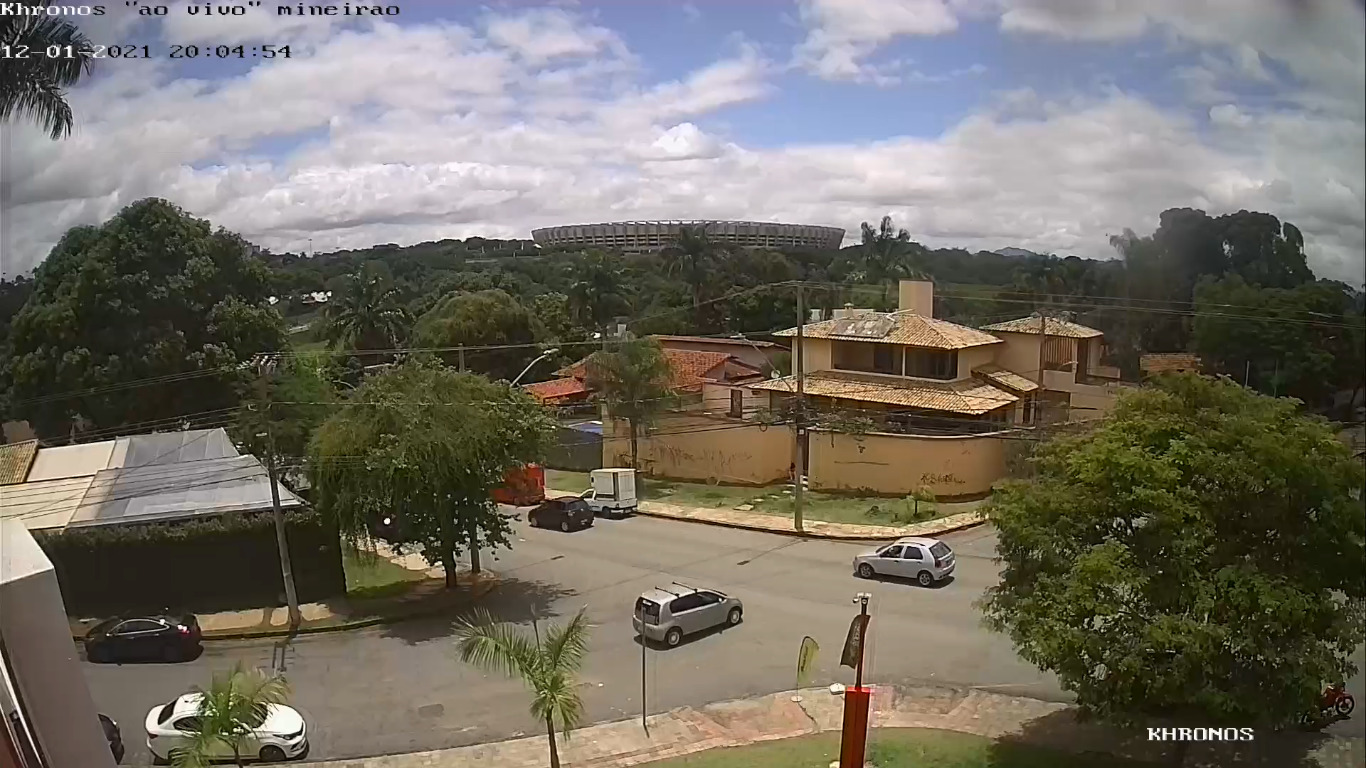car: (143, 690, 307, 766), (632, 582, 745, 645), (83, 605, 203, 662), (852, 533, 957, 589), (526, 493, 595, 534)
